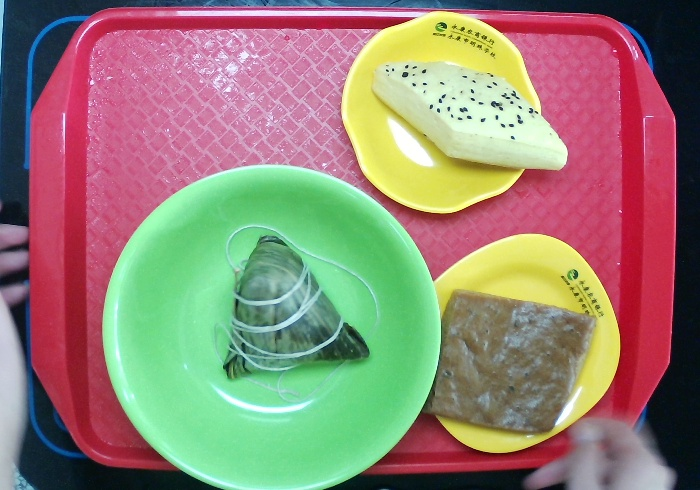YKMZ-Huang_Se_Ao_Bian_Wan: (337, 7, 547, 220)
YKMZ-Huang_Se_Fang_Die: (418, 228, 626, 458)
YKMZ-Lv_Se_Tang_Wan: (96, 154, 445, 490)
